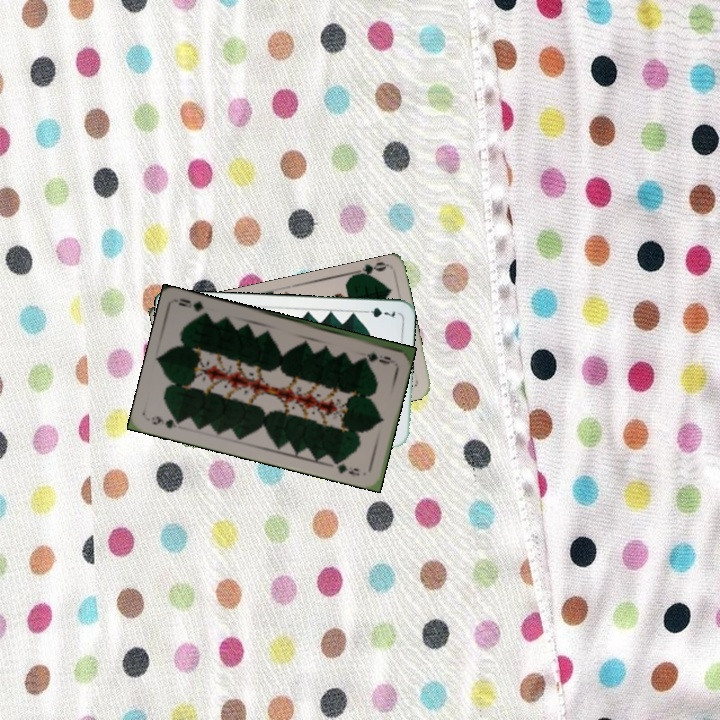G7: (358, 304, 399, 321)
G9: (147, 412, 186, 431), (363, 348, 396, 365)
GO: (348, 258, 389, 281)
